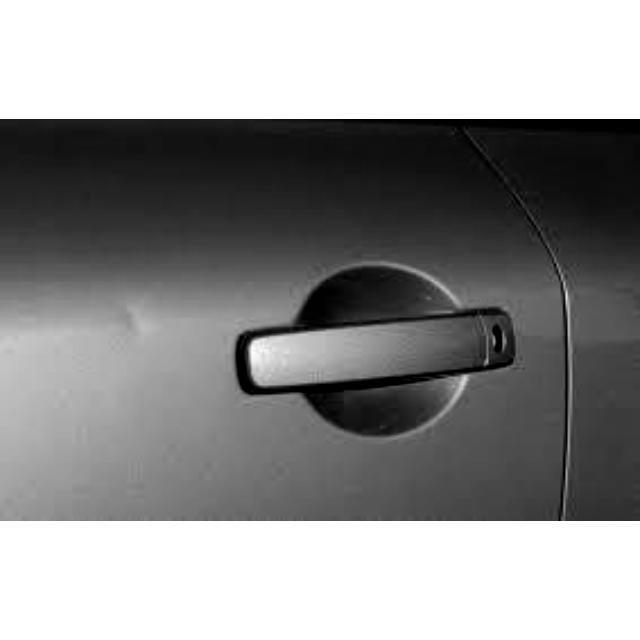doorouter-dent: (1, 127, 570, 520)
